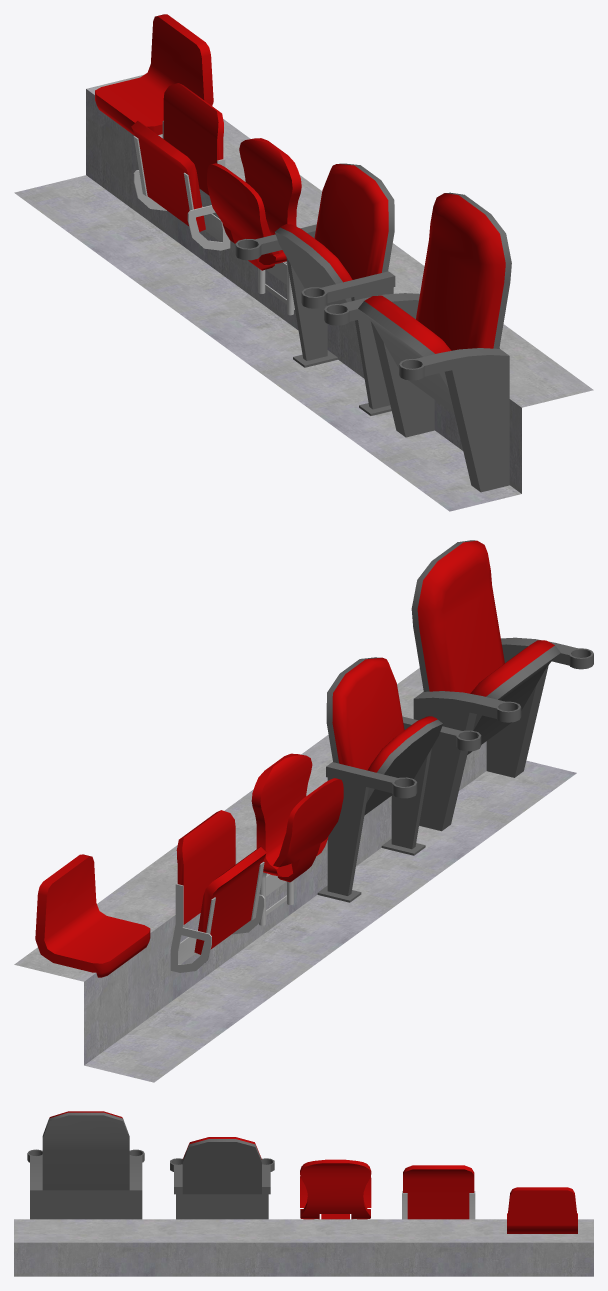
The model's file is bench.glb.
The picture shows the model from 3 angles, top to bottom: view 1: azimuth 30°, elevation 25°; view 2: azimuth 150°, elevation 25°; view 3: azimuth 270°, elevation 25°; orthographic projection. The views are drawn at different scales.
Parts seen in each view (by area): view 1: Material2 (×20); view 2: Material2 (×19); view 3: Material2 (×13).
Boxes of the visible parts, x1,y1,x2,y2 form: Material2 (×20): (14,14,593,511); Material2 (×19): (14,540,593,1082); Material2 (×13): (14,1112,593,1276).
Size of the model in its own units: 33.7 by 45.37 by 144.
5 materials, 1 textured.
